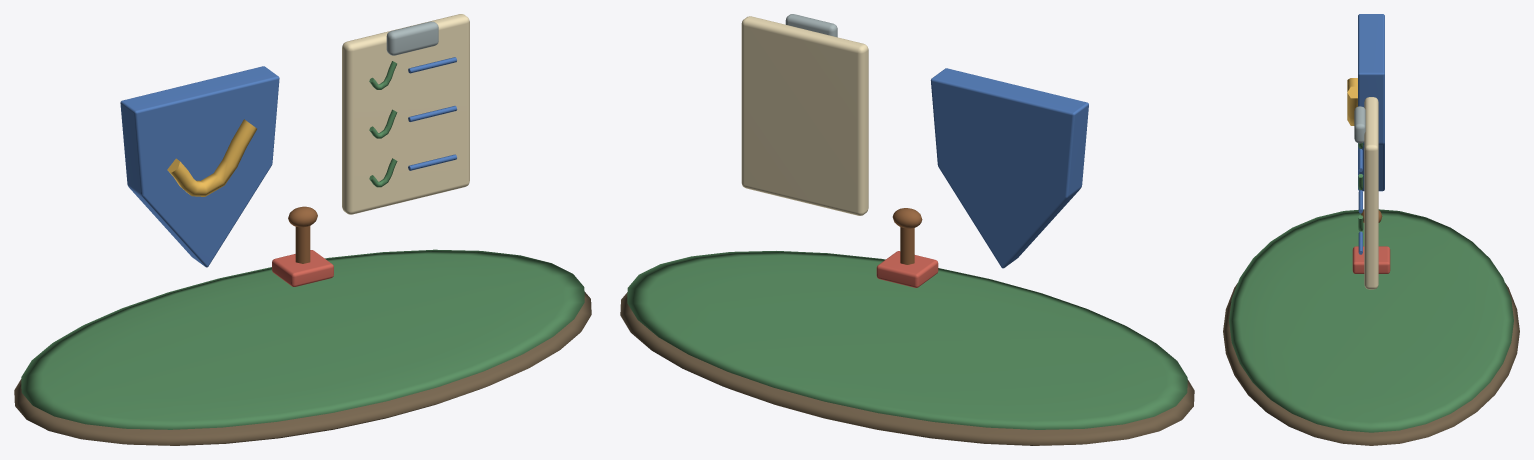
Rendered from complete-second-shielded-proof.glb.
3 renders of one model, left to right at view 1: azimuth 30°, elevation 25°; view 2: azimuth 150°, elevation 25°; view 3: azimuth 270°, elevation 25°, orthographic. The views are drawn at different scales.
Visible parts, largest first — view 1: complete-second-shielded-proof_surface_01, complete-second-shielded-proof_surface_02, complete-second-shielded-proof_surface_04, complete-second-shielded-proof_surface_00, complete-second-shielded-proof_surface_03, complete-second-shielded-proof_surface_06, complete-second-shielded-proof_surface_05, complete-second-shielded-proof_surface_07; view 2: complete-second-shielded-proof_surface_01, complete-second-shielded-proof_surface_04, complete-second-shielded-proof_surface_02, complete-second-shielded-proof_surface_00, complete-second-shielded-proof_surface_06, complete-second-shielded-proof_surface_07, complete-second-shielded-proof_surface_05; view 3: complete-second-shielded-proof_surface_01, complete-second-shielded-proof_surface_00, complete-second-shielded-proof_surface_02, complete-second-shielded-proof_surface_04, complete-second-shielded-proof_surface_06, complete-second-shielded-proof_surface_03, complete-second-shielded-proof_surface_05.
Part boxes in pixels (bbox=[...]): complete-second-shielded-proof_surface_01: bbox=[21, 61, 584, 429]; complete-second-shielded-proof_surface_02: bbox=[120, 57, 457, 267]; complete-second-shielded-proof_surface_04: bbox=[342, 14, 469, 214]; complete-second-shielded-proof_surface_00: bbox=[14, 292, 591, 445]; complete-second-shielded-proof_surface_03: bbox=[167, 119, 256, 196]; complete-second-shielded-proof_surface_06: bbox=[272, 250, 333, 286]; complete-second-shielded-proof_surface_05: bbox=[386, 21, 438, 55]; complete-second-shielded-proof_surface_07: bbox=[288, 206, 317, 263]; complete-second-shielded-proof_surface_01: bbox=[627, 251, 1187, 429]; complete-second-shielded-proof_surface_04: bbox=[741, 16, 868, 215]; complete-second-shielded-proof_surface_02: bbox=[930, 68, 1088, 268]; complete-second-shielded-proof_surface_00: bbox=[620, 292, 1194, 445]; complete-second-shielded-proof_surface_06: bbox=[876, 251, 938, 287]; complete-second-shielded-proof_surface_07: bbox=[892, 208, 922, 264]; complete-second-shielded-proof_surface_05: bbox=[785, 14, 837, 37]; complete-second-shielded-proof_surface_01: bbox=[1229, 143, 1513, 432]; complete-second-shielded-proof_surface_00: bbox=[1223, 283, 1519, 445]; complete-second-shielded-proof_surface_02: bbox=[1358, 14, 1384, 254]; complete-second-shielded-proof_surface_04: bbox=[1364, 97, 1378, 289]; complete-second-shielded-proof_surface_06: bbox=[1352, 246, 1390, 273]; complete-second-shielded-proof_surface_03: bbox=[1347, 78, 1357, 125]; complete-second-shielded-proof_surface_05: bbox=[1354, 106, 1365, 143].
Bounding box in the file's own units: 4.56 × 2.54 × 2.5.
